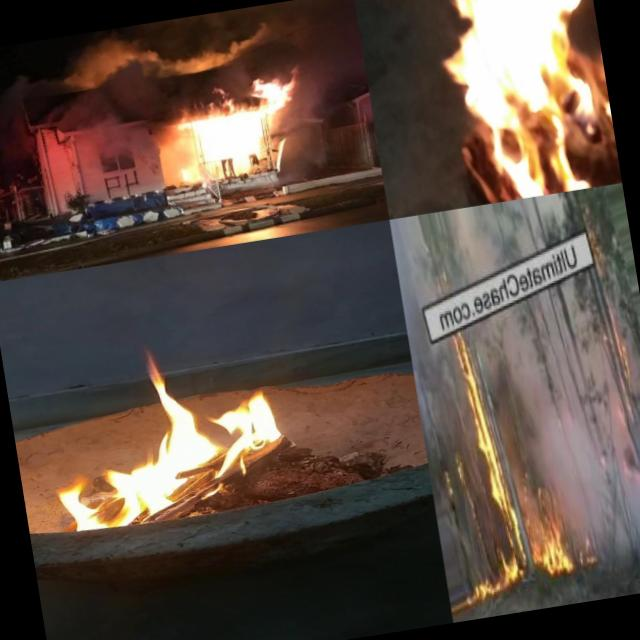fire: (39, 326, 300, 532), (419, 320, 585, 616), (414, 0, 622, 210), (178, 86, 270, 186), (250, 66, 300, 117)
smoke: (42, 20, 186, 174), (548, 342, 640, 581), (284, 0, 371, 108), (164, 9, 253, 100), (0, 71, 59, 162), (262, 107, 330, 184), (240, 2, 292, 72)
